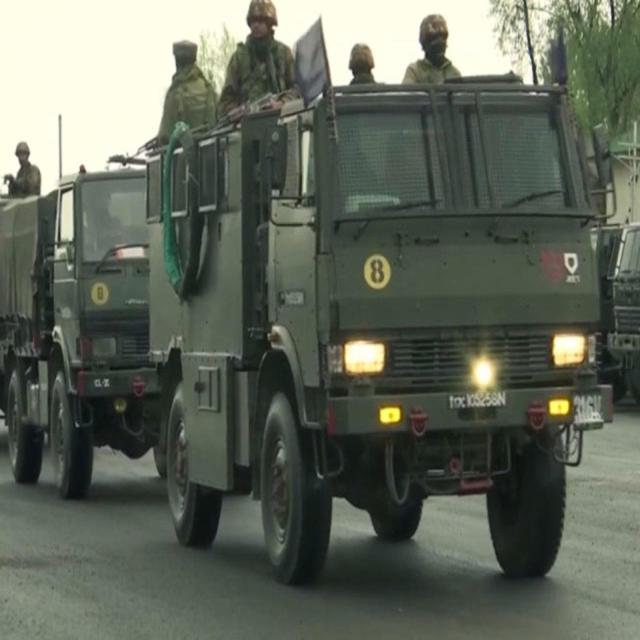military-plate: (447, 389, 509, 412)
unit number: (572, 391, 603, 429)
